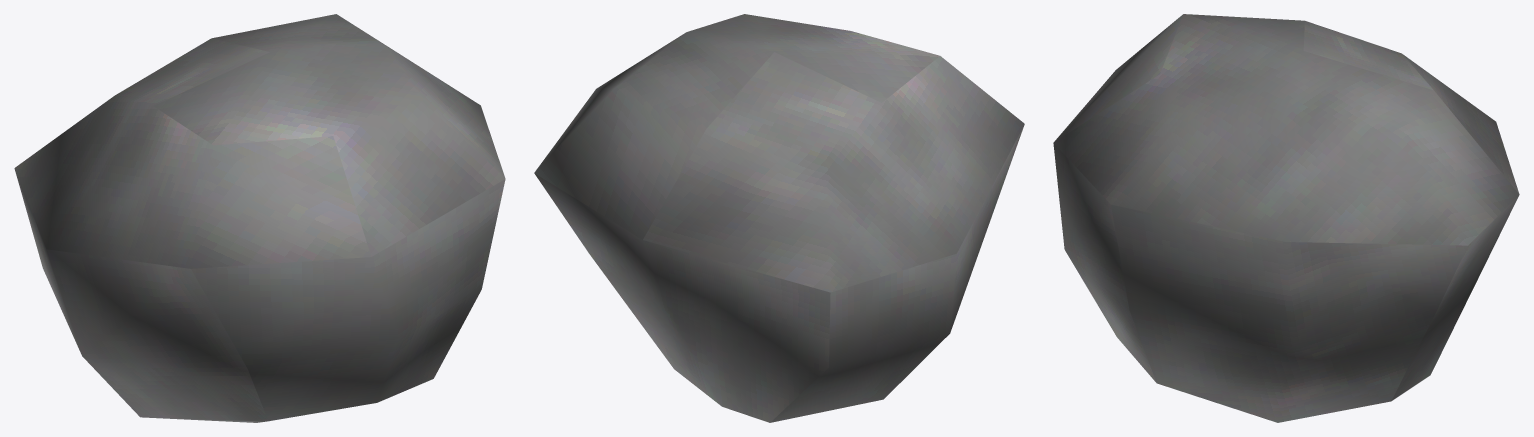
Rendered from medium_grey_rock.obj.
3 renders of one model, left to right at view 1: azimuth 30°, elevation 25°; view 2: azimuth 150°, elevation 25°; view 3: azimuth 270°, elevation 25°, orthographic. The views are drawn at different scales.
Visible parts, largest first — view 1: Cube; view 2: Cube; view 3: Cube.
Part boxes in pixels (x1,y1,x2,y2): Cube: (14, 14, 505, 422); Cube: (534, 14, 1024, 422); Cube: (1053, 14, 1519, 422).
Bounding box in the file's own units: 2.72 × 2.27 × 2.71.
